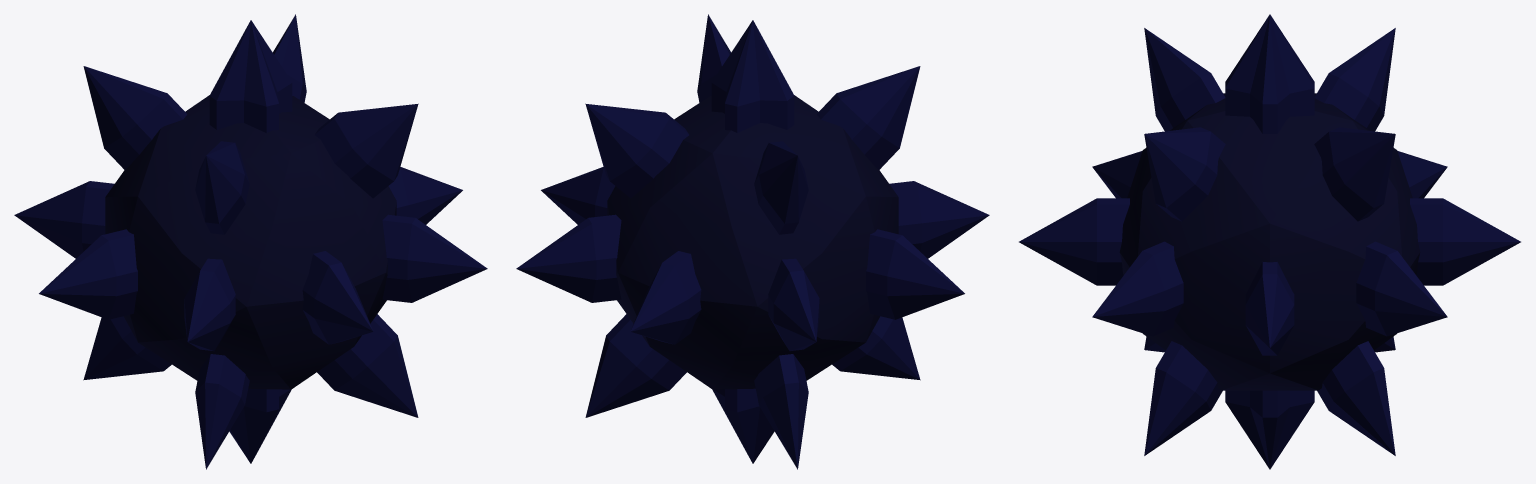
File: UrchinProj_CAPS.fbx
3 views of the same model, side by side, from view 1: azimuth 30°, elevation 25°; view 2: azimuth 150°, elevation 25°; view 3: azimuth 270°, elevation 25° (orthographic). The views are drawn at different scales.
Visible parts, largest first — view 1: mergedBlocks; view 2: mergedBlocks; view 3: mergedBlocks.
Boxes of the visible parts, box(x1,y1,x2,y2) form: mergedBlocks: box(14, 14, 487, 469); mergedBlocks: box(516, 14, 989, 469); mergedBlocks: box(1019, 14, 1520, 469).
Bounding box in the file's own units: 16 × 16 × 16.
